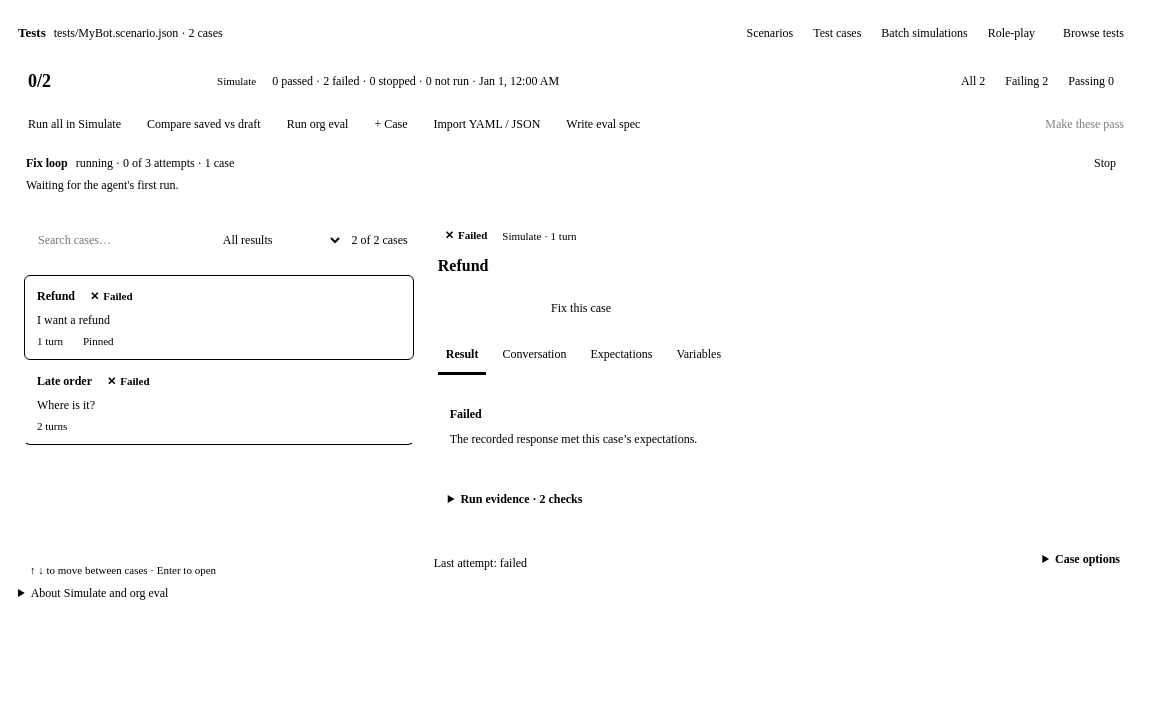
Test case: blocks the fix loop while the file is unsaved and reports start or stop failures
Check: the element with test id "tests-loop" is shown, box 18,145 -> 1134,201
Step 1. Click the button "Stop" → coordinates (1105, 164), box 1084,153 -> 1126,174
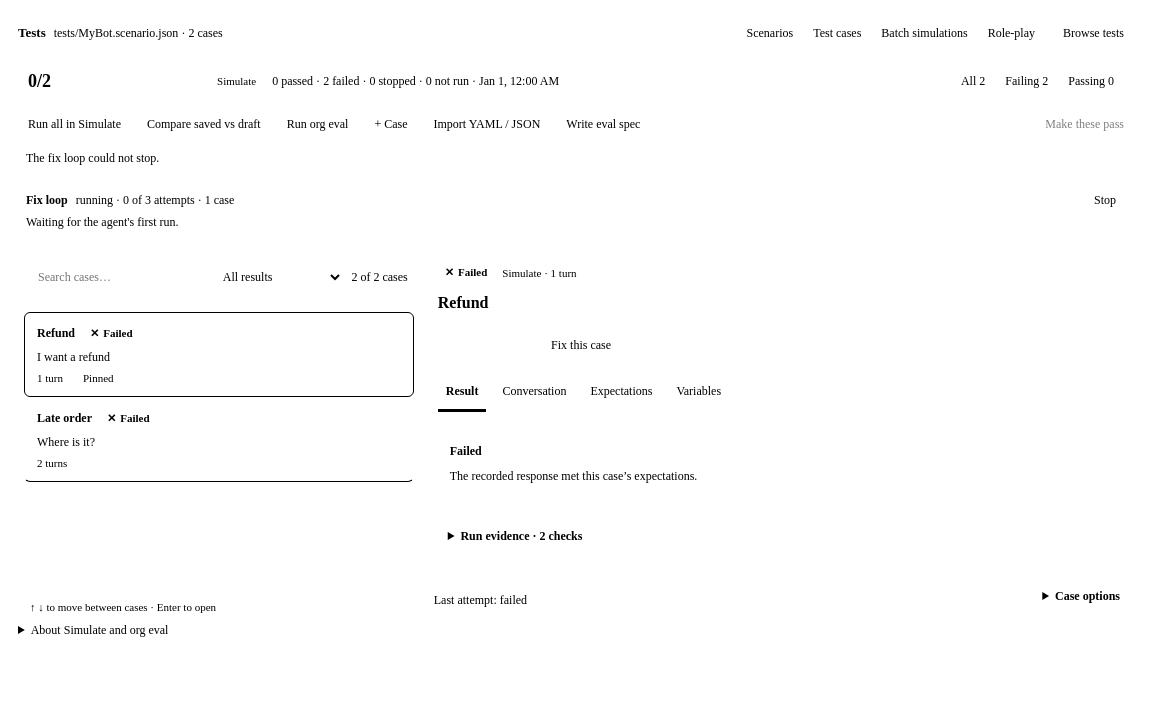
Check: the text "The fix loop could not stop." is shown, box 26,151 -> 159,166
